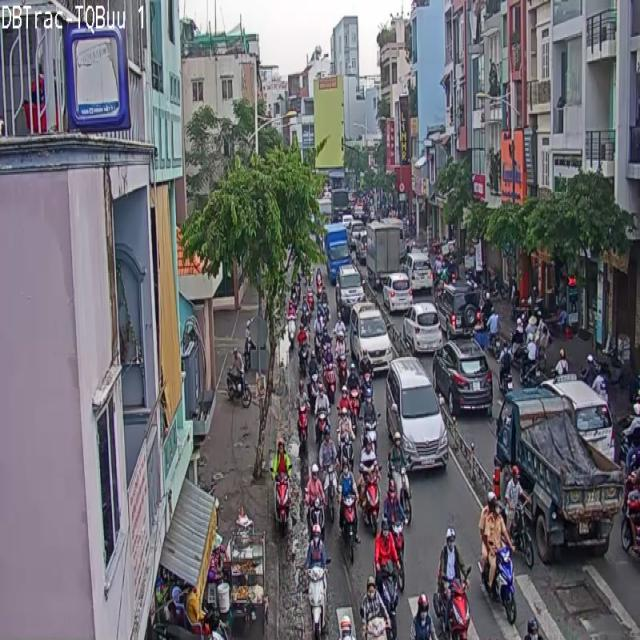car: (386, 357, 448, 468), (374, 519, 399, 639), (306, 522, 326, 639), (497, 545, 516, 623), (339, 464, 357, 546), (446, 580, 470, 639), (304, 464, 326, 506), (275, 475, 290, 530)
traffic-light: (386, 357, 448, 468), (386, 358, 448, 468), (349, 303, 390, 370), (306, 521, 326, 639), (402, 303, 442, 353)
